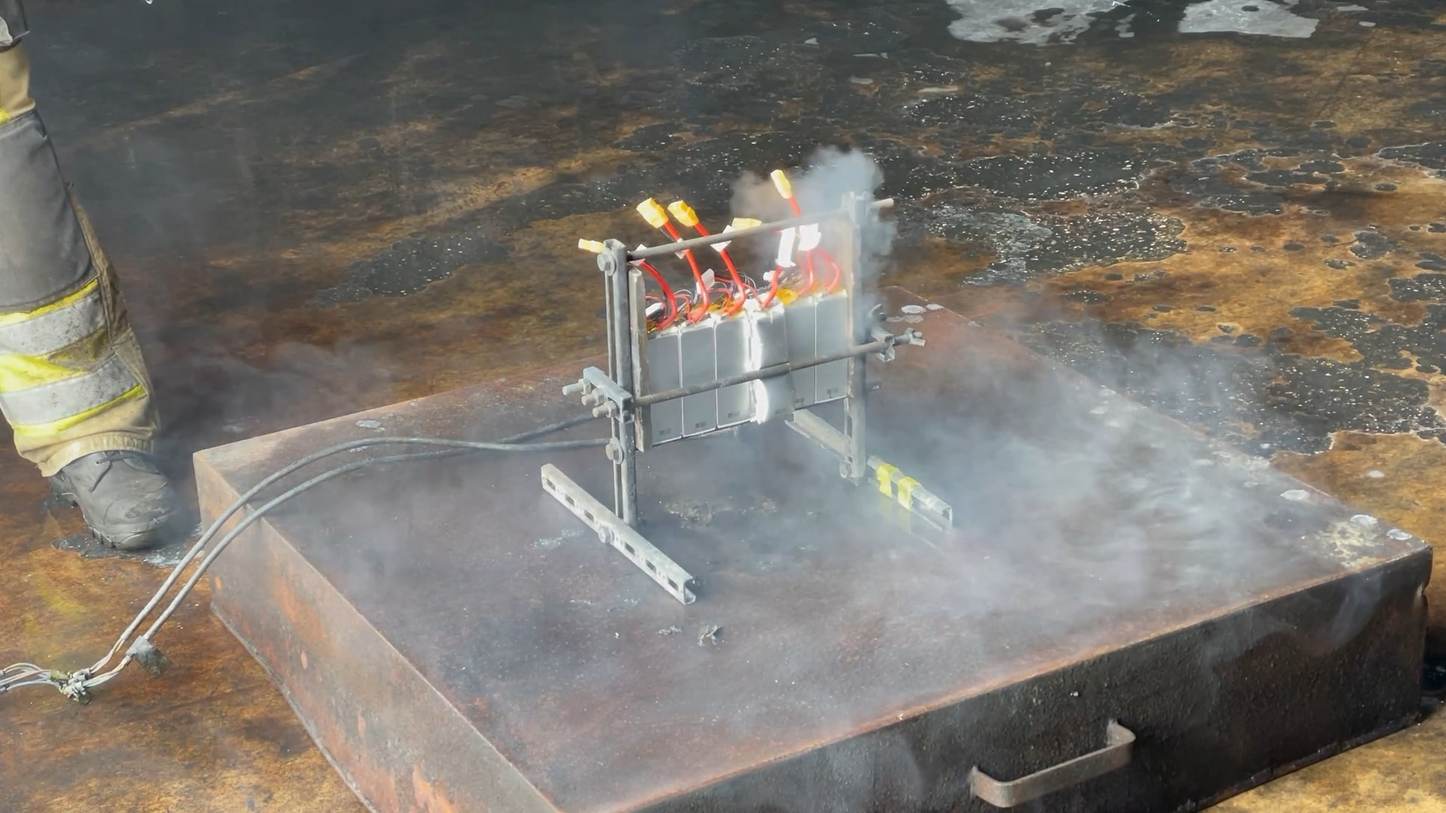smoke: (70, 131, 1281, 732)
